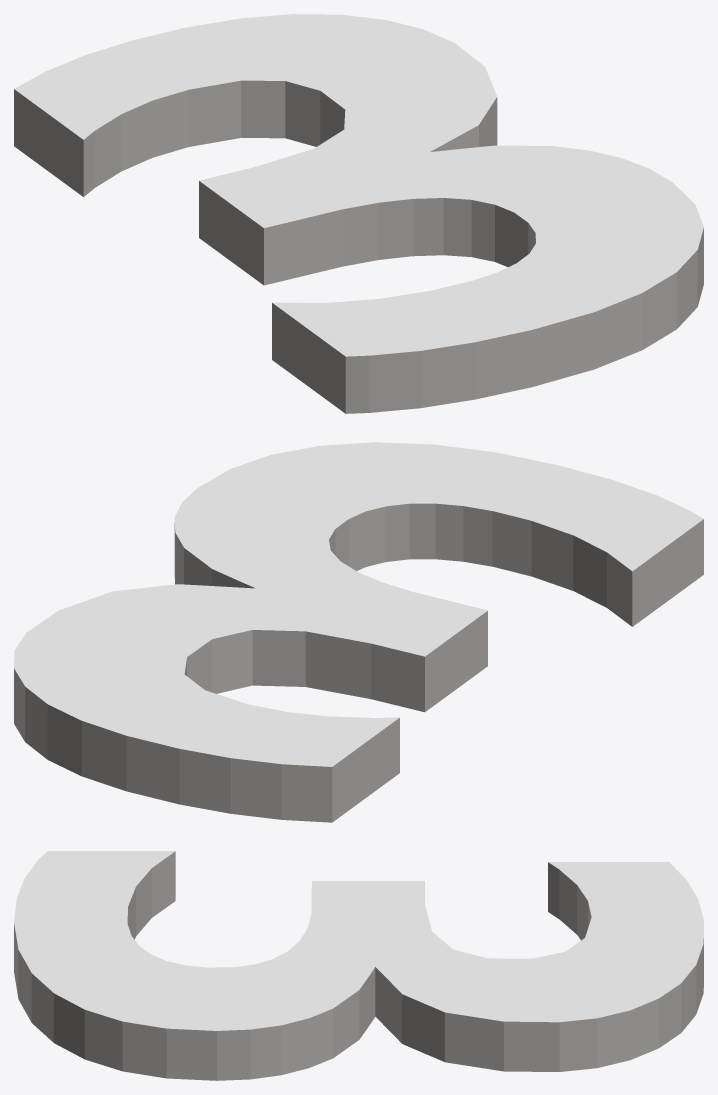
The model's file is shuzi03.FBX.
3 views of the same model, one above another, from view 1: azimuth 30°, elevation 25°; view 2: azimuth 150°, elevation 25°; view 3: azimuth 270°, elevation 25° (orthographic). The views are drawn at different scales.
Parts seen in each view (by area): view 1: shuzi03; view 2: shuzi03; view 3: shuzi03.
Boxes of the visible parts, bbox=[...] form: shuzi03: bbox=[14, 14, 703, 413]; shuzi03: bbox=[14, 442, 703, 822]; shuzi03: bbox=[14, 851, 703, 1080].
Bounding box in the file's own units: 69.25 × 8.95 × 112.
